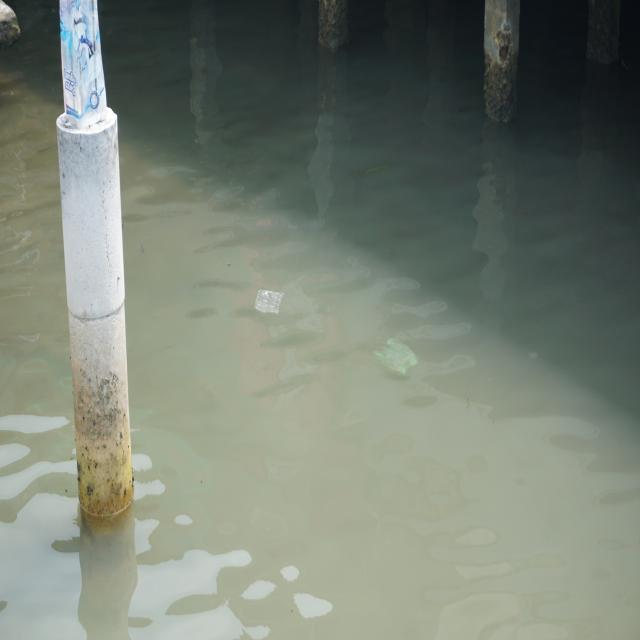Kantong Plastik: (374, 335, 422, 381), (254, 283, 287, 320)
